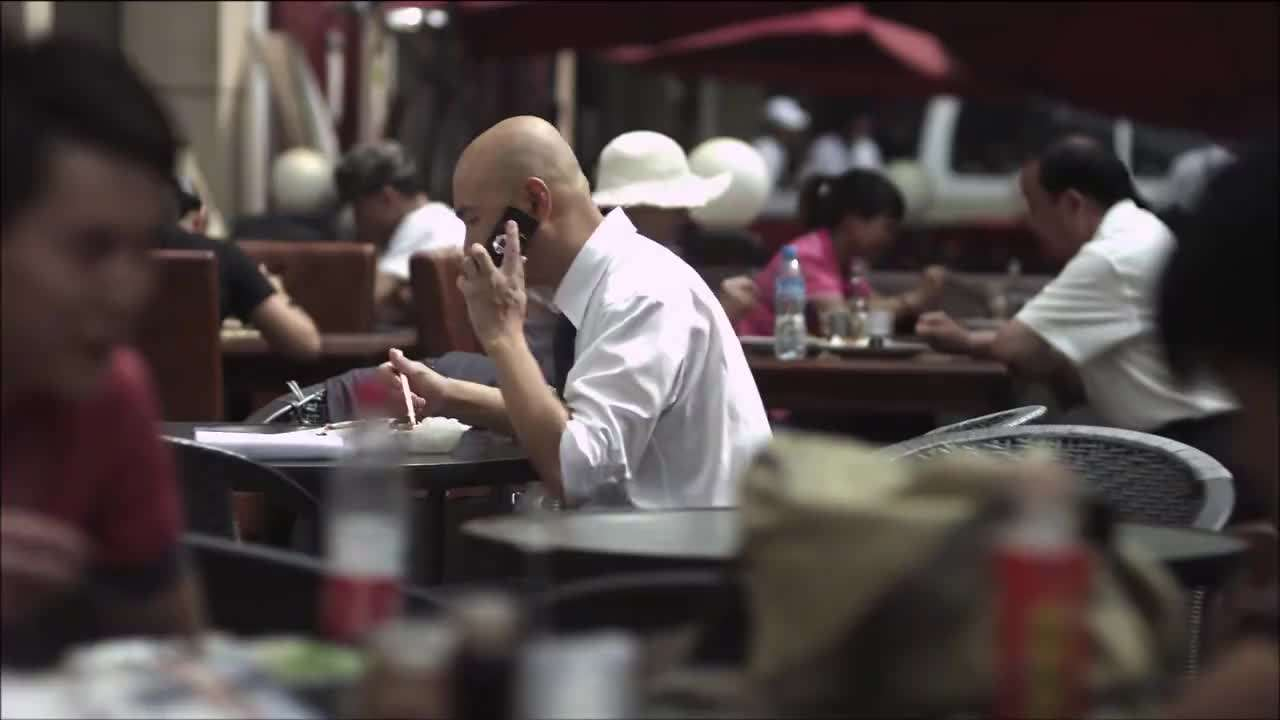calling: (453, 201, 542, 333)
